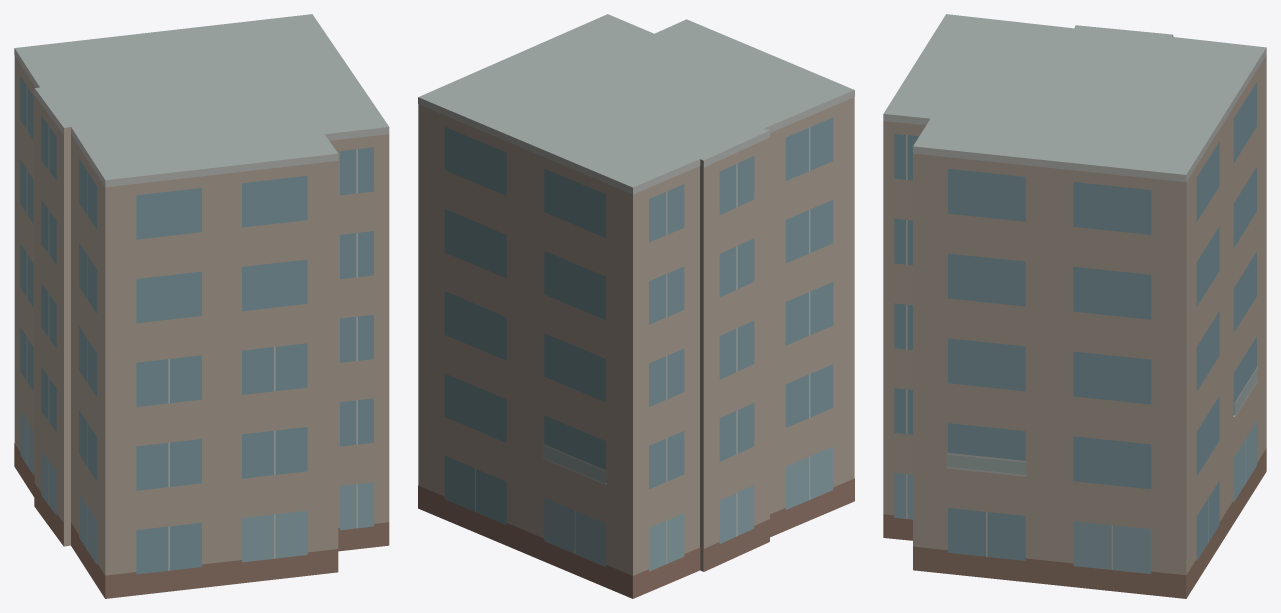
The model's file is survey-upis-32947085.glb.
3 views of the same model, side by side, from view 1: azimuth 30°, elevation 25°; view 2: azimuth 150°, elevation 25°; view 3: azimuth 270°, elevation 25° (orthographic). The views are drawn at different scales.
Visible parts, largest first — view 1: survey-upis-32947085.tmp; view 2: survey-upis-32947085.tmp; view 3: survey-upis-32947085.tmp.
Part boxes in pixels (bbox=[...]): survey-upis-32947085.tmp: bbox=[14, 14, 389, 598]; survey-upis-32947085.tmp: bbox=[418, 14, 854, 598]; survey-upis-32947085.tmp: bbox=[883, 14, 1266, 598].
Bounding box in the file's own units: 11.74 × 14.4 × 11.81.
